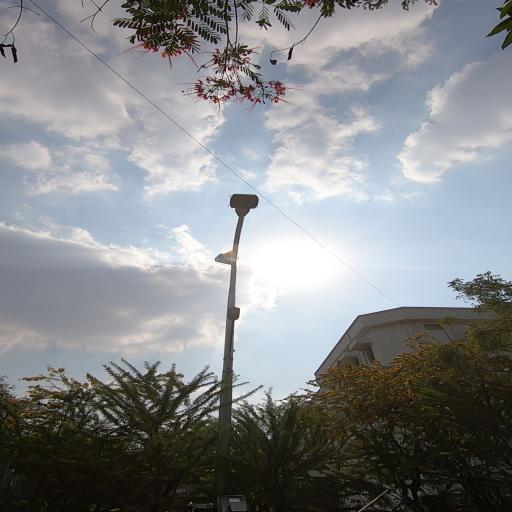Street_light: (221, 190, 264, 225)
